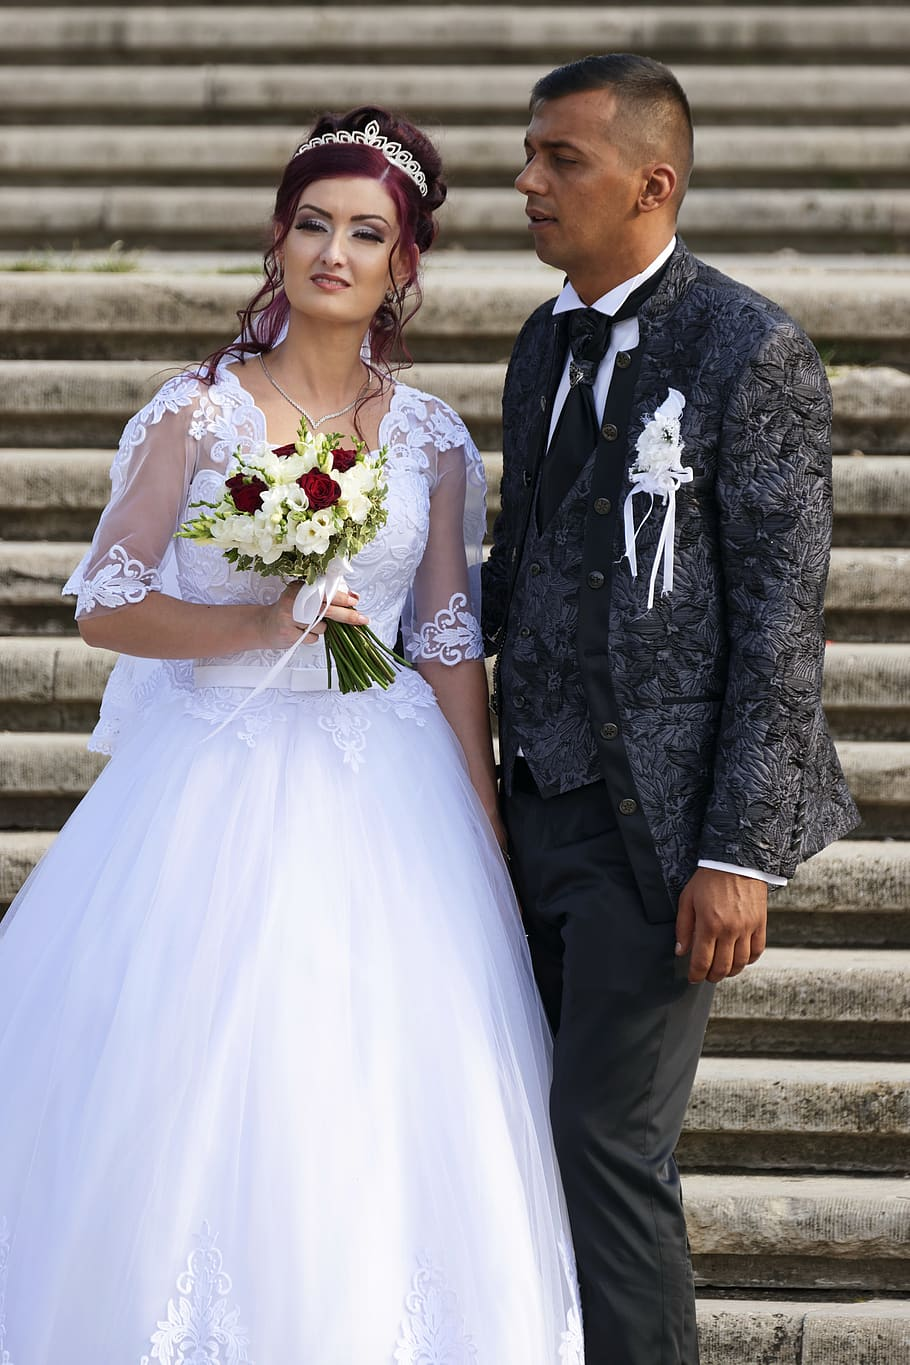person: (468, 26, 848, 666), (118, 116, 468, 586)
